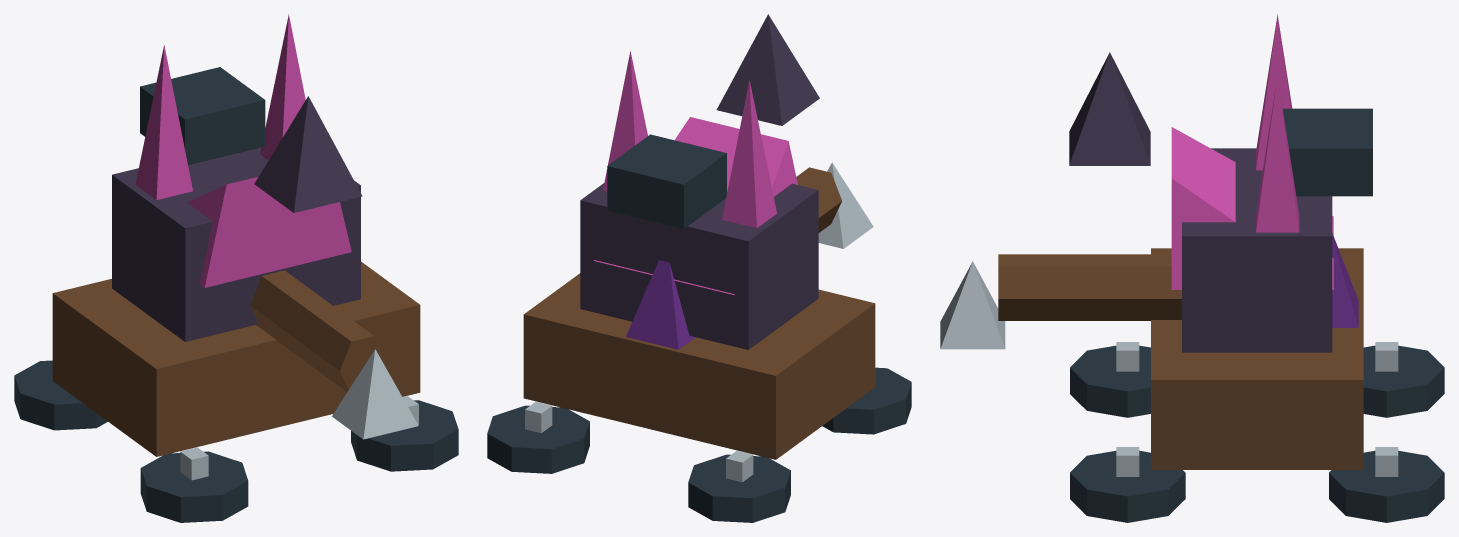
The model's file is siege.obj.
3 views of the same model, side by side, from view 1: azimuth 30°, elevation 25°; view 2: azimuth 150°, elevation 25°; view 3: azimuth 270°, elevation 25° (orthographic). The views are drawn at different scales.
Parts seen in each view (by area): view 1: siege; view 2: siege; view 3: siege.
Part boxes in pixels (x1,y1,x2,y2): siege: [14, 14, 458, 522]; siege: [487, 14, 911, 522]; siege: [940, 14, 1444, 522].
Size of the model in its own units: 1.42 by 1.74 by 1.98.
